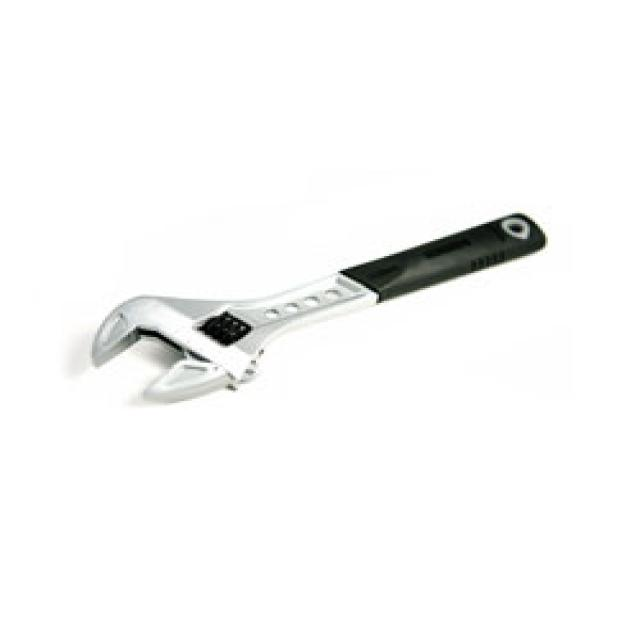wrench: (56, 196, 586, 422)
